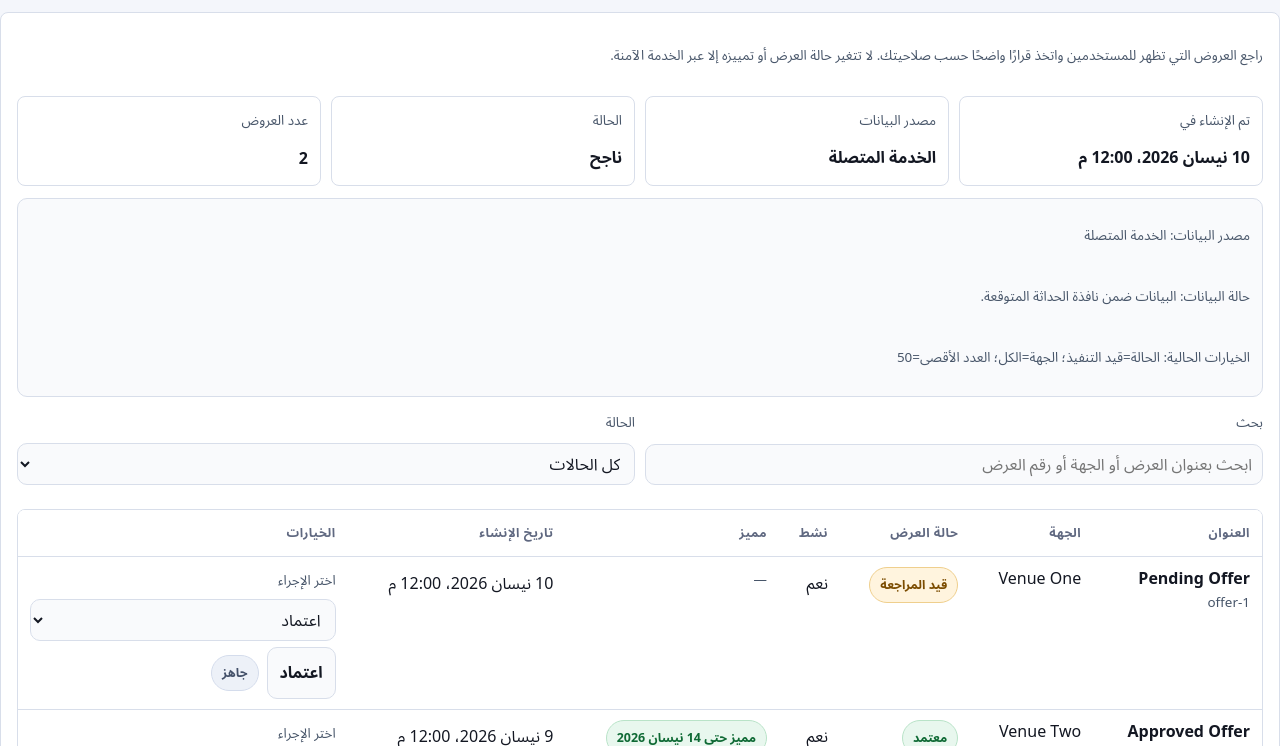
Test case: content management shells › shows successful offer moderation completion
Select "اعتماد" in the dropdown with test id "content-action-select-offer-offer-1" at (183, 620), box [30,598,336,640]
Click the button with test id "content-action-run-offer-offer-1".
click(301, 672)  # box [266,646,336,698]
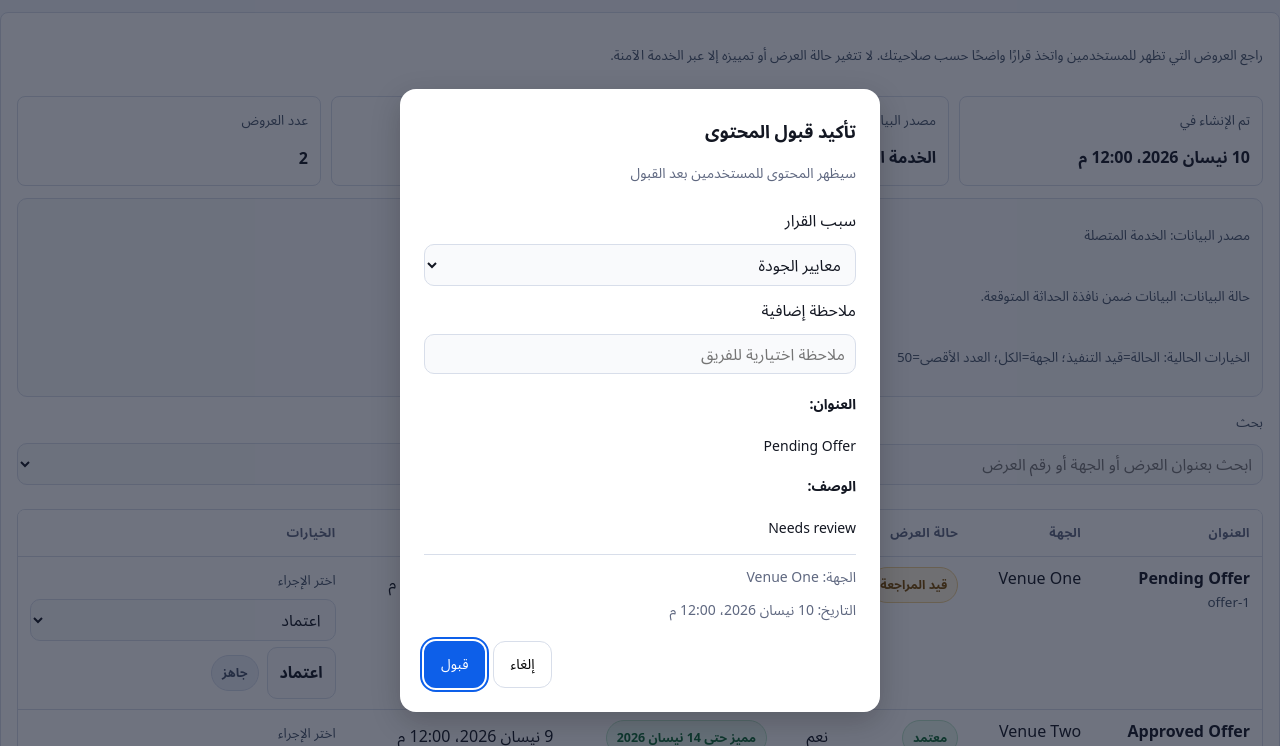
Expected: the dialog is shown, [400,88,880,712]
Note: Click confirm button in dialog (قبول for approve action) - last button is the confirm button
Click the button "قبول".
click(455, 664)  # box [424,640,485,688]
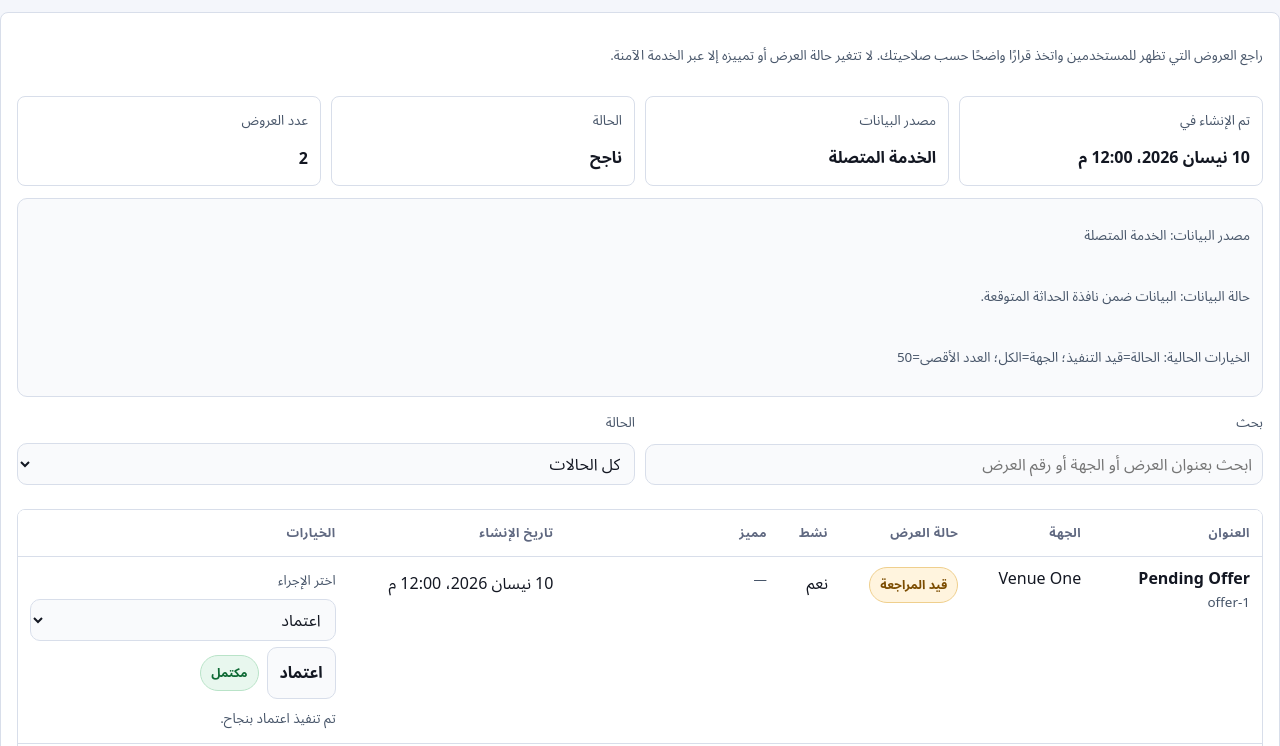
Expected: the text "تم تنفيذ اعتماد بنجاح." is shown, [220,708,336,726]
